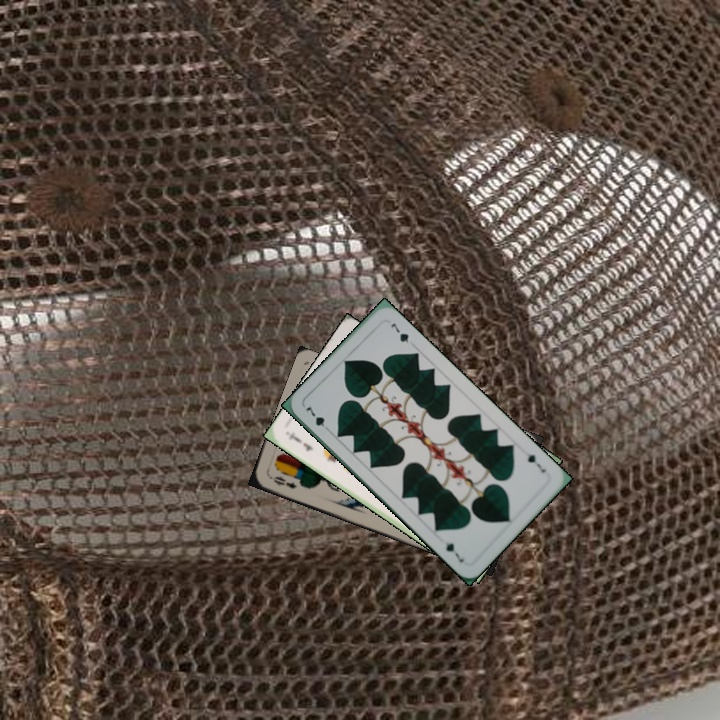E7: (284, 428, 316, 454)
EO: (266, 471, 299, 491)
G7: (301, 403, 333, 435), (524, 450, 548, 475)
